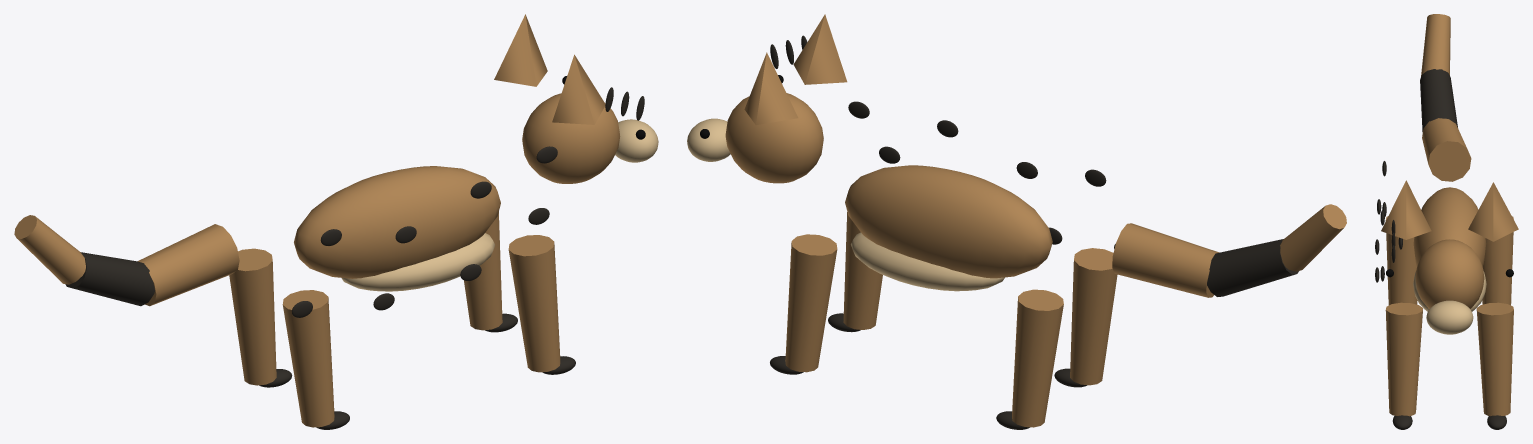
The model's file is leopard-cat.glb.
3 views of the same model, side by side, from view 1: azimuth 30°, elevation 25°; view 2: azimuth 150°, elevation 25°; view 3: azimuth 270°, elevation 25° (orthographic). The views are drawn at different scales.
Visible parts, largest first — view 1: slender-body, head, leg-0.55-1, leg--0.62-1, leg--0.62--1, ringed-tail-1, pale-belly, ringed-tail-2, ringed-tail-3, leg-0.55--1, rounded-ear-1, rounded-ear--1 (+1 smaller); view 2: slender-body, head, leg-0.55--1, leg--0.62--1, leg--0.62-1, ringed-tail-1, pale-belly, ringed-tail-2, leg-0.55-1, ringed-tail-3, rounded-ear-1, rounded-ear--1 (+1 smaller); view 3: head, leg-0.55-1, leg-0.55--1, slender-body, ringed-tail-1, leg--0.62--1, leg--0.62-1, ringed-tail-2, rounded-ear--1, rounded-ear-1, ringed-tail-3, muzzle (+3 smaller).
Boxes of the visible parts, x1,y1,x2,y2 form: slender-body: (294, 166, 500, 278); head: (522, 93, 620, 183); leg-0.55-1: (508, 235, 560, 372); leg--0.62-1: (282, 290, 334, 427); leg--0.62--1: (229, 248, 276, 385); ringed-tail-1: (137, 224, 239, 306); pale-belly: (341, 233, 494, 291); ringed-tail-2: (65, 252, 154, 306); ringed-tail-3: (14, 215, 85, 284); leg-0.55--1: (464, 212, 502, 330); rounded-ear-1: (552, 54, 605, 124); rounded-ear--1: (494, 14, 547, 86); slender-body: (845, 165, 1052, 278); head: (725, 93, 823, 183); leg-0.55--1: (785, 234, 837, 372); leg--0.62--1: (1012, 289, 1063, 427); leg--0.62-1: (1070, 248, 1117, 385); ringed-tail-1: (1112, 223, 1219, 297); pale-belly: (851, 232, 1004, 291); ringed-tail-2: (1207, 239, 1298, 296); leg-0.55-1: (843, 212, 882, 329); ringed-tail-3: (1280, 204, 1346, 271); rounded-ear-1: (793, 14, 847, 84); rounded-ear--1: (744, 52, 798, 125); head: (1415, 239, 1484, 309); leg-0.55-1: (1385, 302, 1423, 416); leg-0.55--1: (1476, 302, 1513, 416); slender-body: (1413, 187, 1486, 266); ringed-tail-1: (1422, 118, 1471, 181); leg--0.62--1: (1482, 216, 1513, 305); leg--0.62-1: (1385, 216, 1417, 305); ringed-tail-2: (1420, 69, 1457, 131); rounded-ear--1: (1468, 182, 1518, 241); rounded-ear-1: (1381, 180, 1431, 239); ringed-tail-3: (1421, 14, 1450, 76); muzzle: (1426, 300, 1473, 334).
Size of the model in its own units: 3.34 by 1.54 by 0.792.
